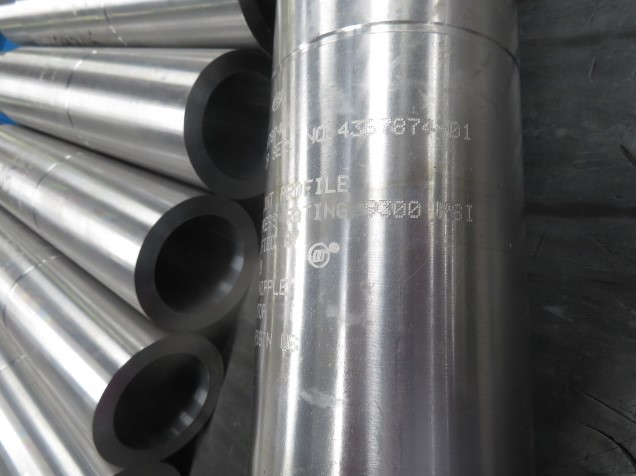character: (434, 200, 452, 223), (390, 197, 406, 221), (336, 117, 352, 140), (378, 114, 393, 138), (407, 199, 423, 221), (392, 116, 408, 138), (363, 116, 379, 138), (449, 200, 463, 225), (420, 117, 437, 137), (334, 173, 351, 193), (378, 197, 391, 223), (350, 116, 365, 138), (336, 200, 351, 221), (464, 203, 478, 225), (407, 115, 421, 137), (447, 119, 461, 140), (462, 121, 475, 143), (366, 198, 378, 221)
